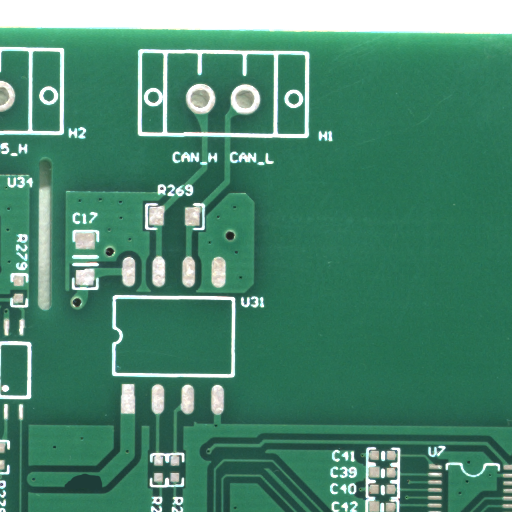Mouse_bite: (85, 482, 129, 506)
